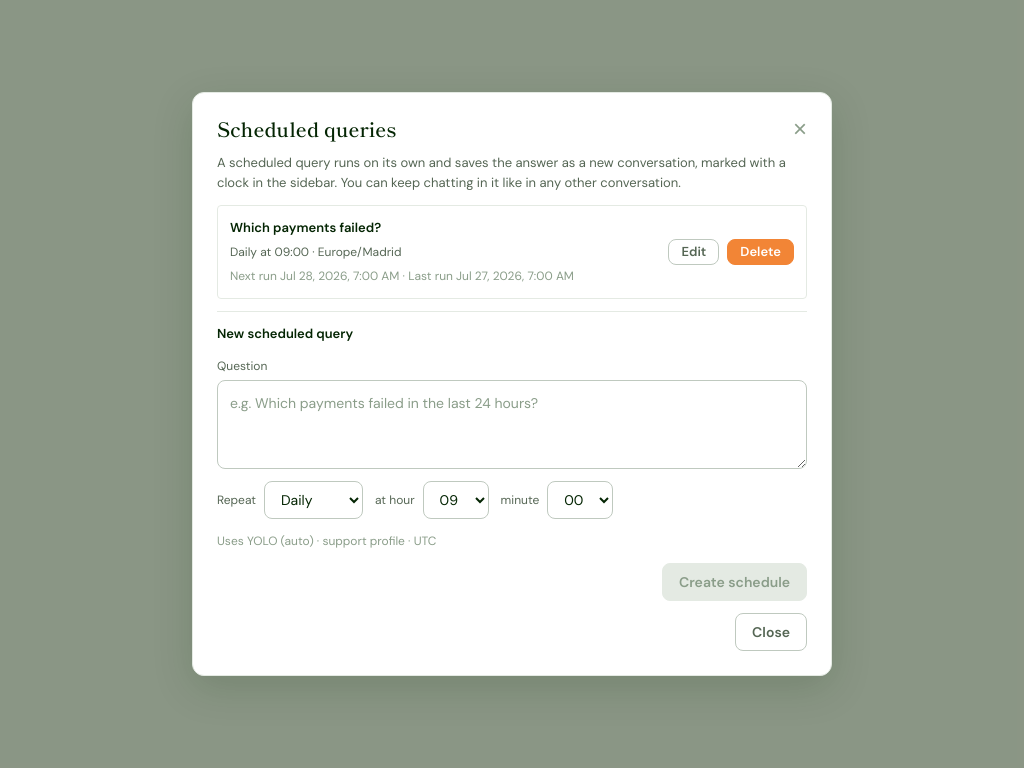
SchedulesModal › shows the error when the delete fails
Click the button "Delete": click(761, 252) [727,239,794,265]
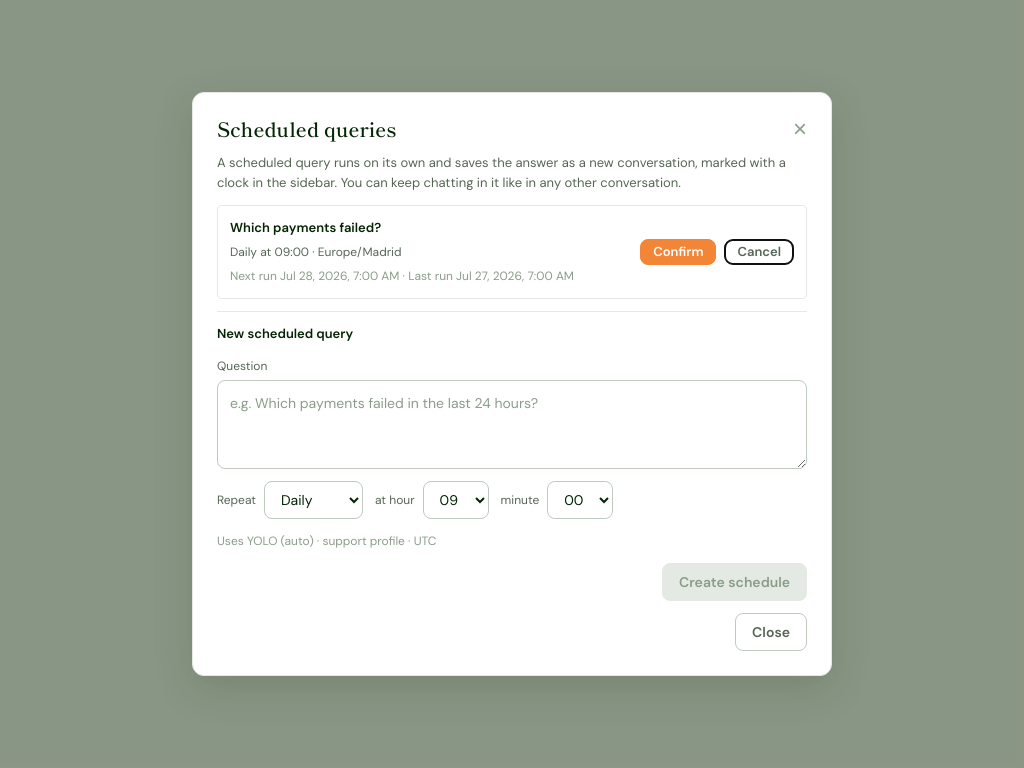
Click the button "Confirm": click(678, 252) [640,239,716,265]
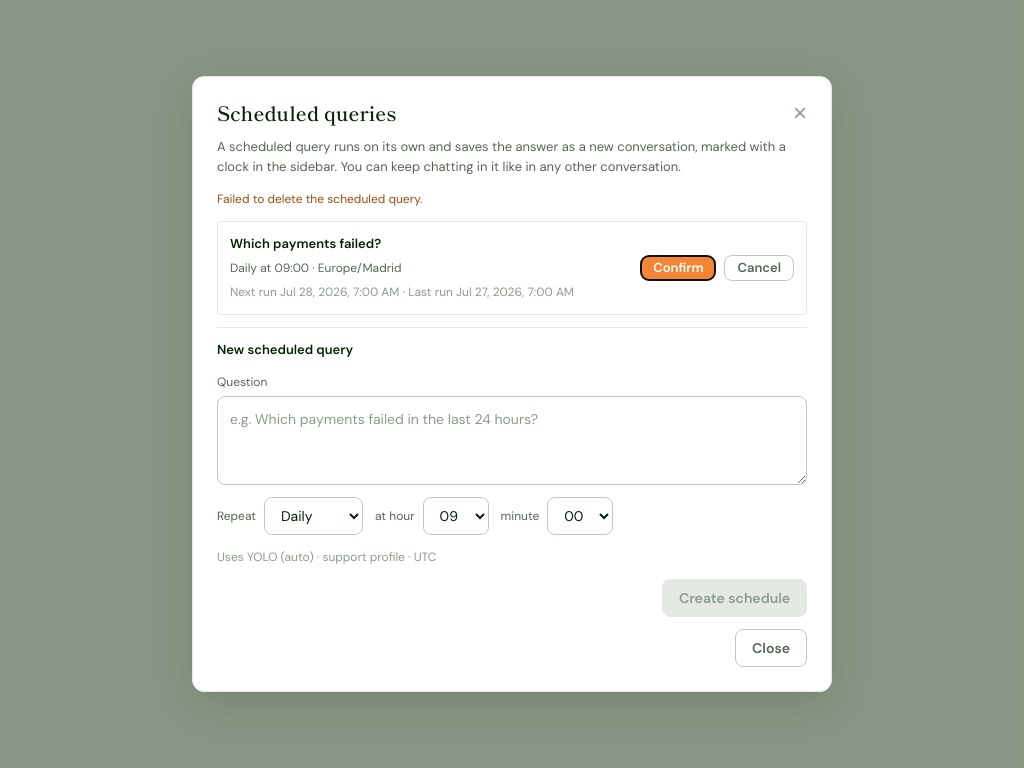
expect the text "Failed to delete the scheduled query." is shown: met, box [217,191,422,207]
